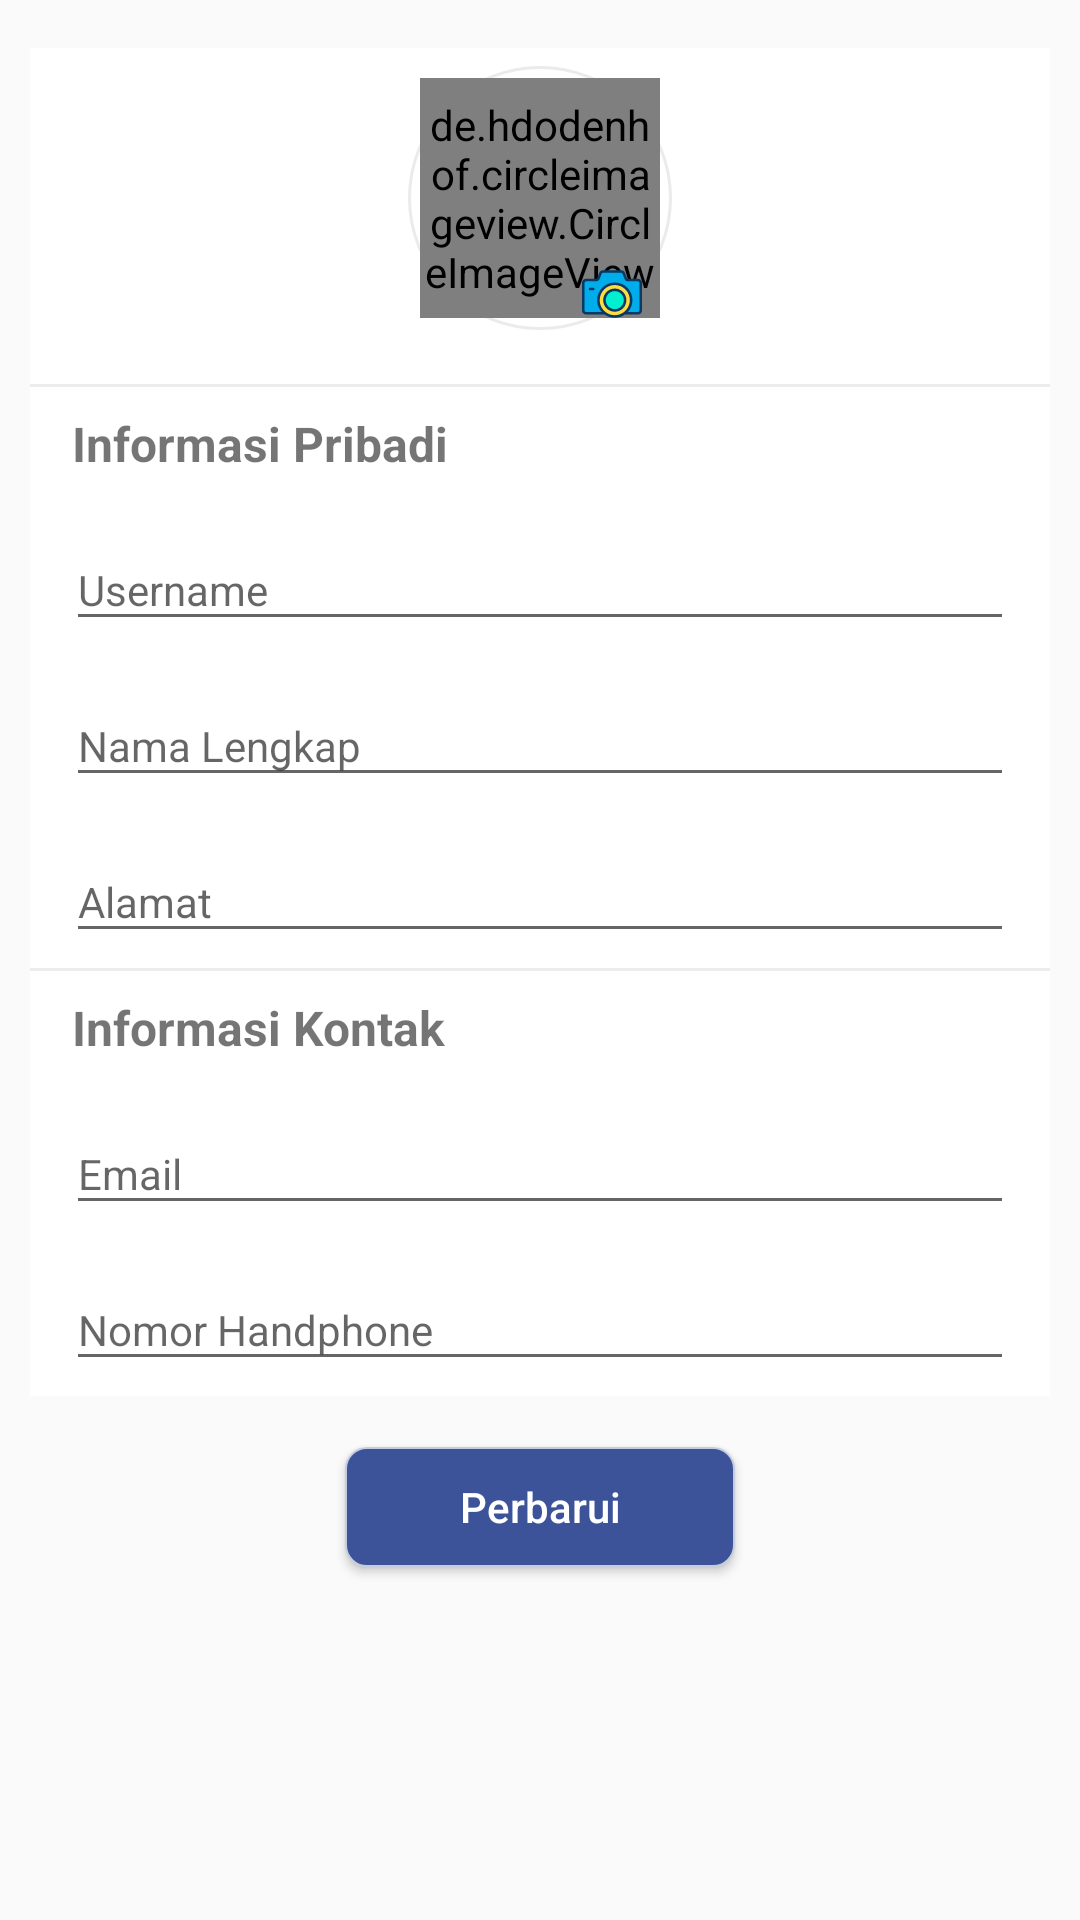

Icon click points for this 1080*1920 phone screenshot, format point (x, y):
photo: point (612, 294)
